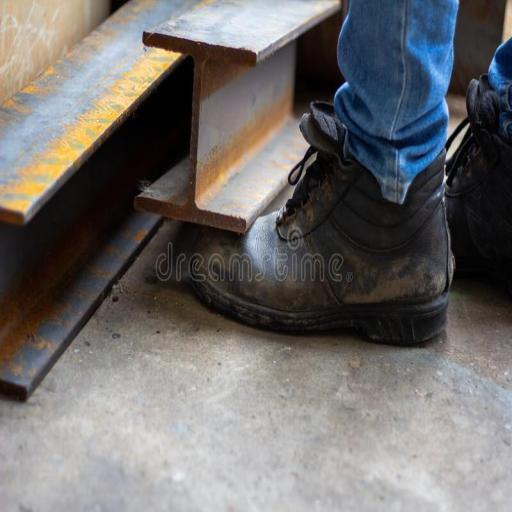safety_boots: (178, 200, 455, 370)
